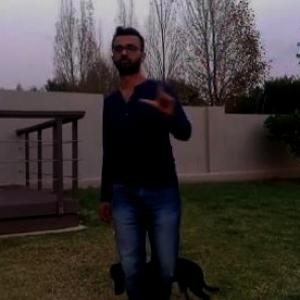land_hand: (137, 66, 180, 116)
